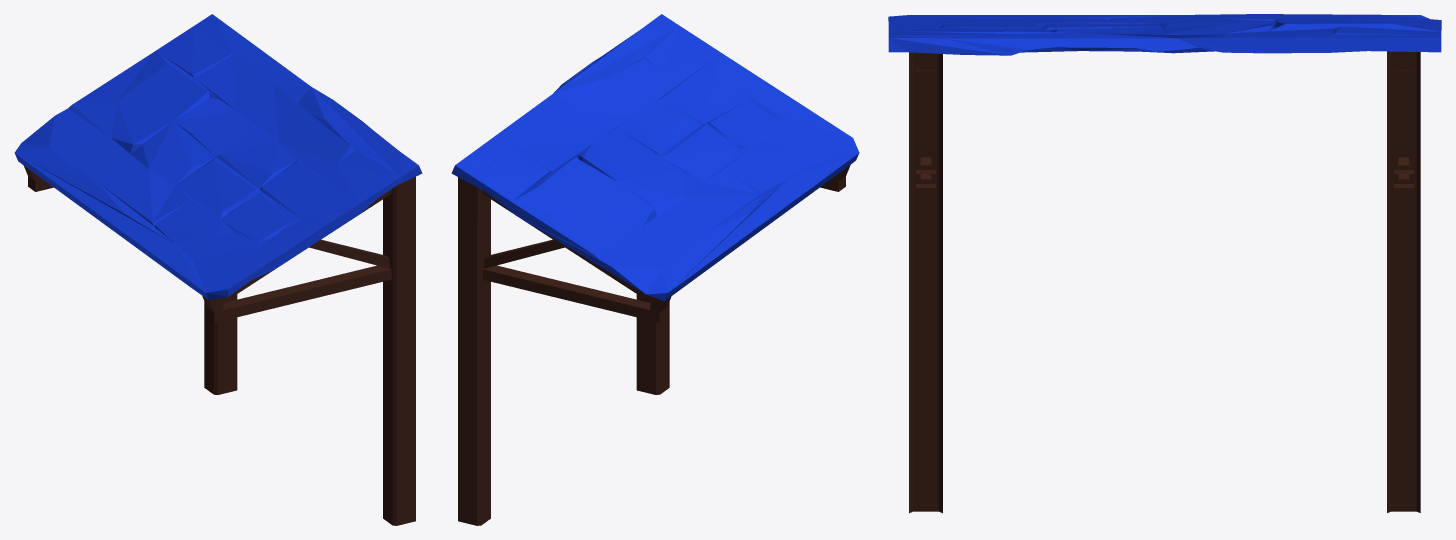
The model's file is door_canopy_1.FBX.
3 renders of one model, left to right at view 1: azimuth 30°, elevation 25°; view 2: azimuth 150°, elevation 25°; view 3: azimuth 270°, elevation 25°, orthographic. The views are drawn at different scales.
Parts seen in each view (by area): view 1: door_canopy_1; view 2: door_canopy_1; view 3: door_canopy_1.
Boxes of the visible parts, x1=… form: door_canopy_1: x1=14, y1=14, x2=422, y2=525; door_canopy_1: x1=451, y1=14, x2=859, y2=525; door_canopy_1: x1=888, y1=14, x2=1441, y2=513.
Bounding box in the file's own units: 215 × 349 × 360.
